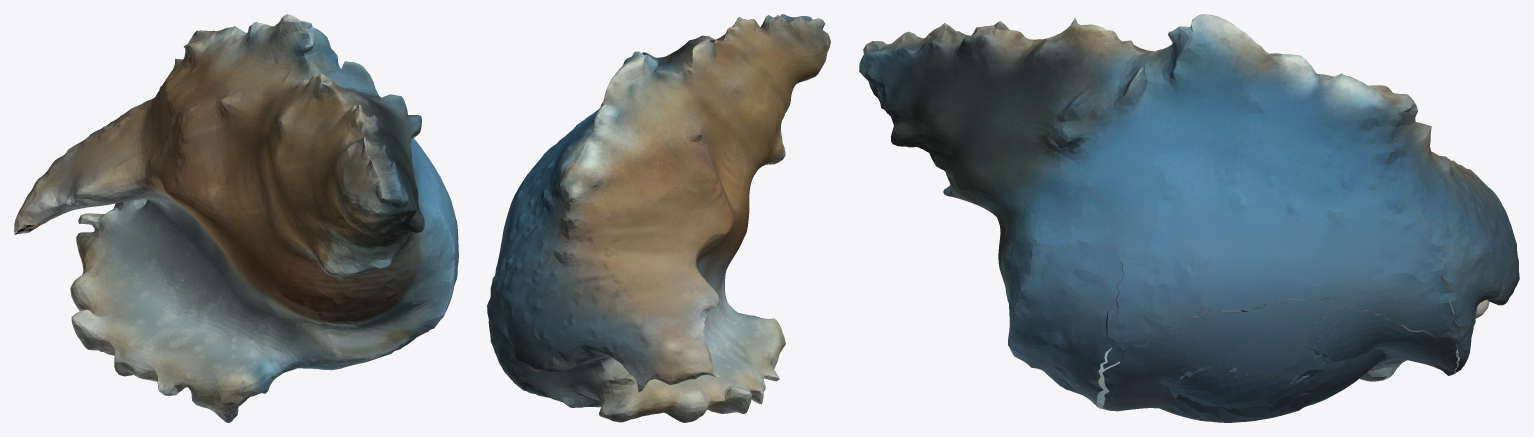
The picture shows the model from 3 angles, left to right: view 1: azimuth 30°, elevation 25°; view 2: azimuth 150°, elevation 25°; view 3: azimuth 270°, elevation 25°; orthographic projection. The views are drawn at different scales.
Parts seen in each view (by area): view 1: Mesh_0.043; view 2: Mesh_0.043; view 3: Mesh_0.043.
Part boxes in pixels (x1,y1,x2,y2): Mesh_0.043: (14, 14, 458, 422); Mesh_0.043: (487, 14, 830, 422); Mesh_0.043: (859, 14, 1519, 422).
Bounding box in the file's own units: 0.0665 × 0.0718 × 0.1045.
1 material, 1 textured.
